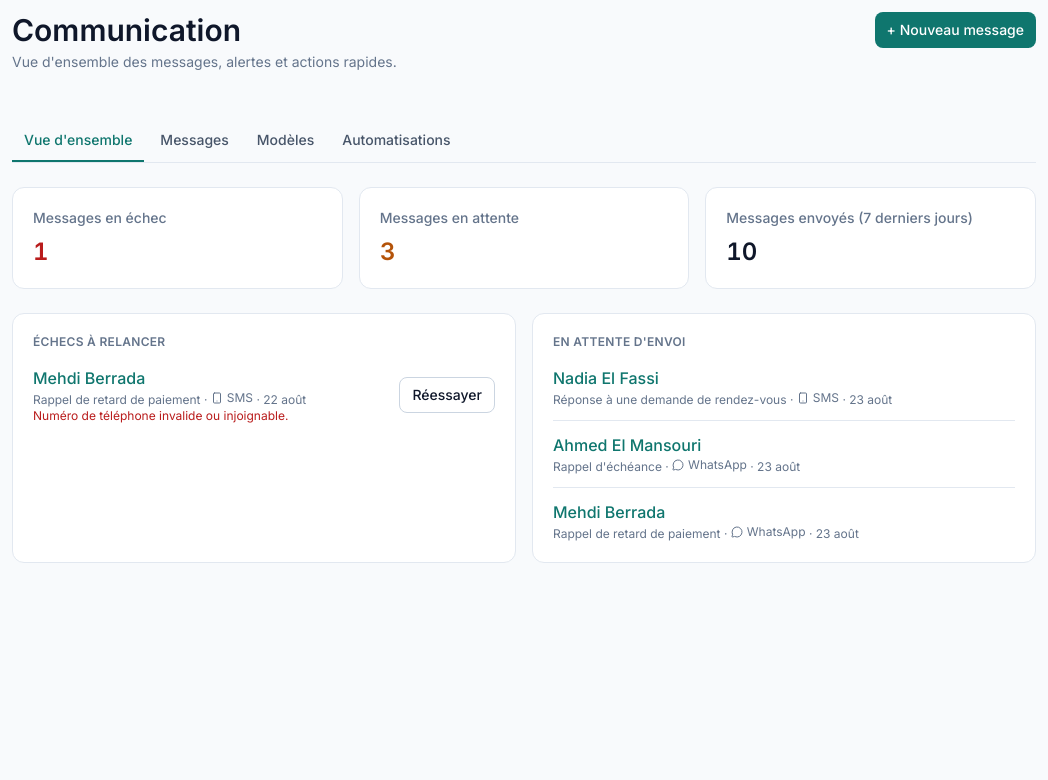
Scenario: CommunicationDashboard › retries a failed message: it disappears from Failed and the KPIs update
The width and height of the screenshot is (1048, 780).
What coordinates should you click on to do the following:
click the button "Réessayer"
I would click on:
 (447, 395)
Its box is [399,377,495,413].
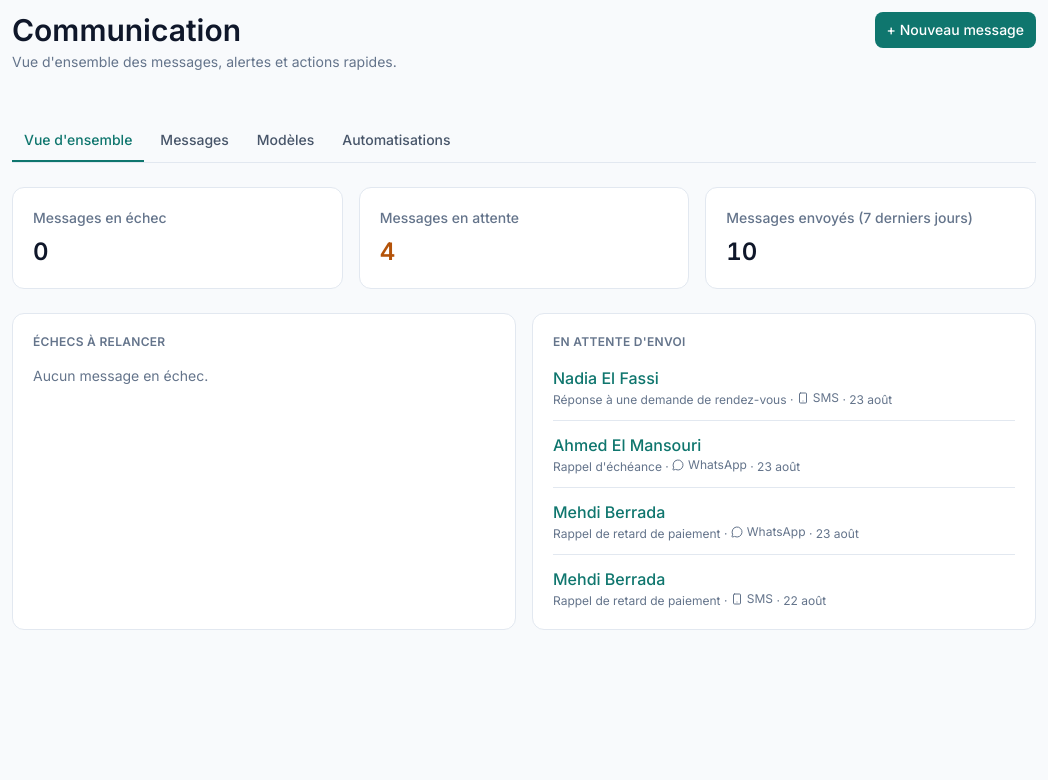
Check: the text "Aucun message en échec." is shown, box [33,367,208,384]
Check: the text "0" is shown, box [33,237,48,266]
Check: the text "4" is shown, box [380,237,395,266]
